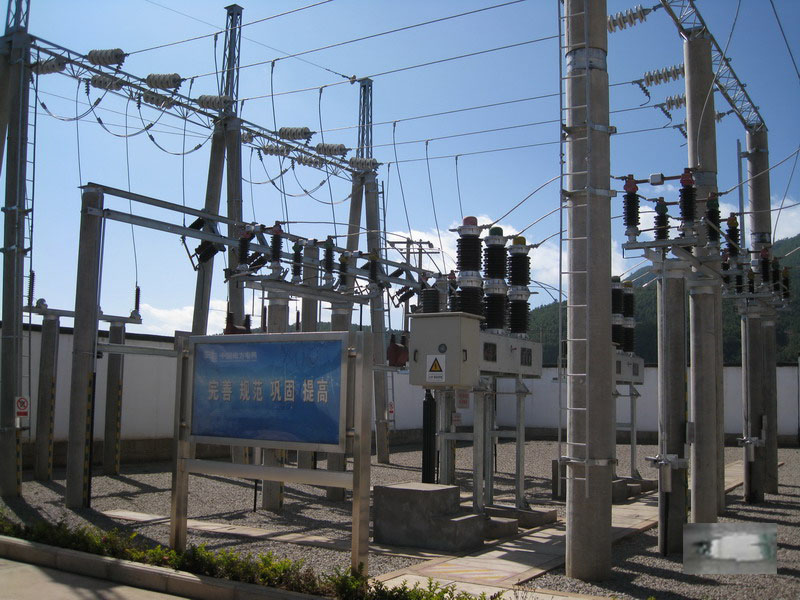oil: (684, 521, 781, 578)
